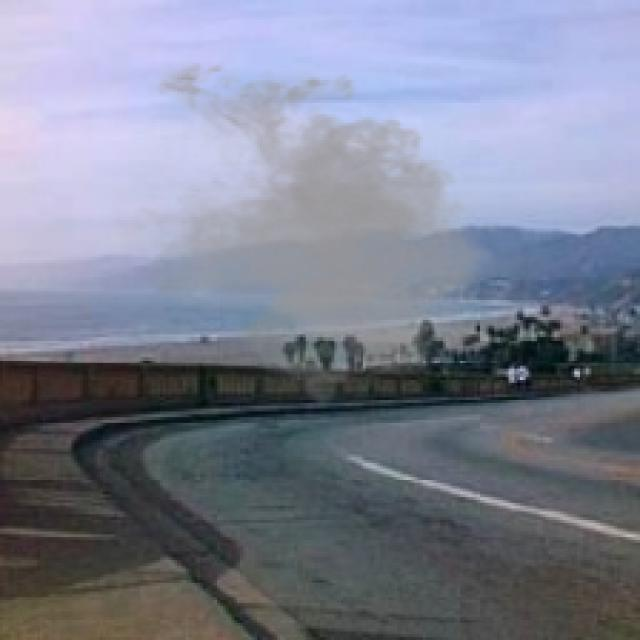Smoke: (86, 51, 512, 408)
